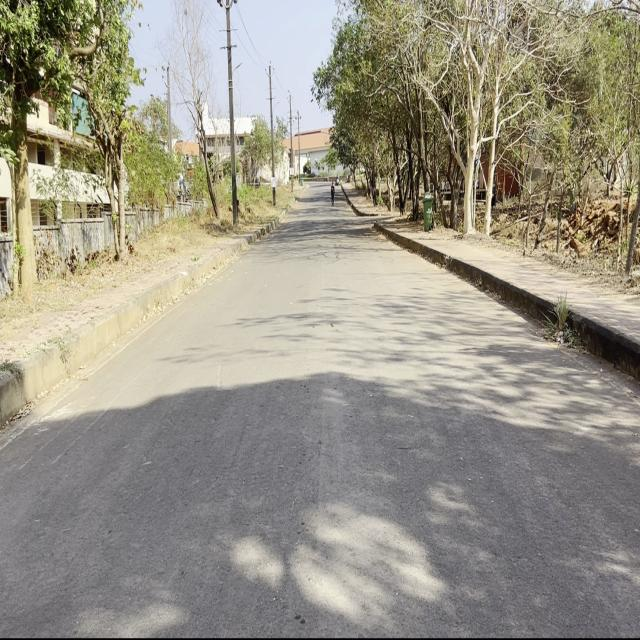Road: (4, 186, 636, 630)
